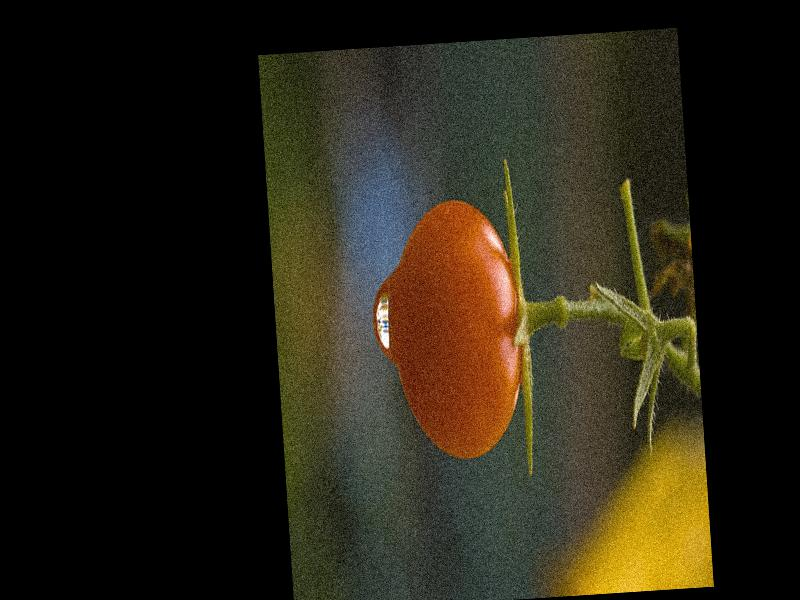Tomato: (385, 193, 529, 461)
